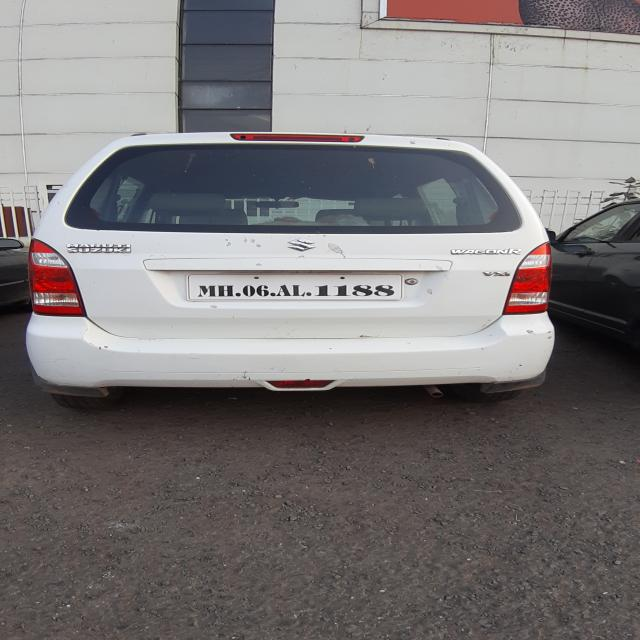Number-Plate: (189, 275, 402, 301)
